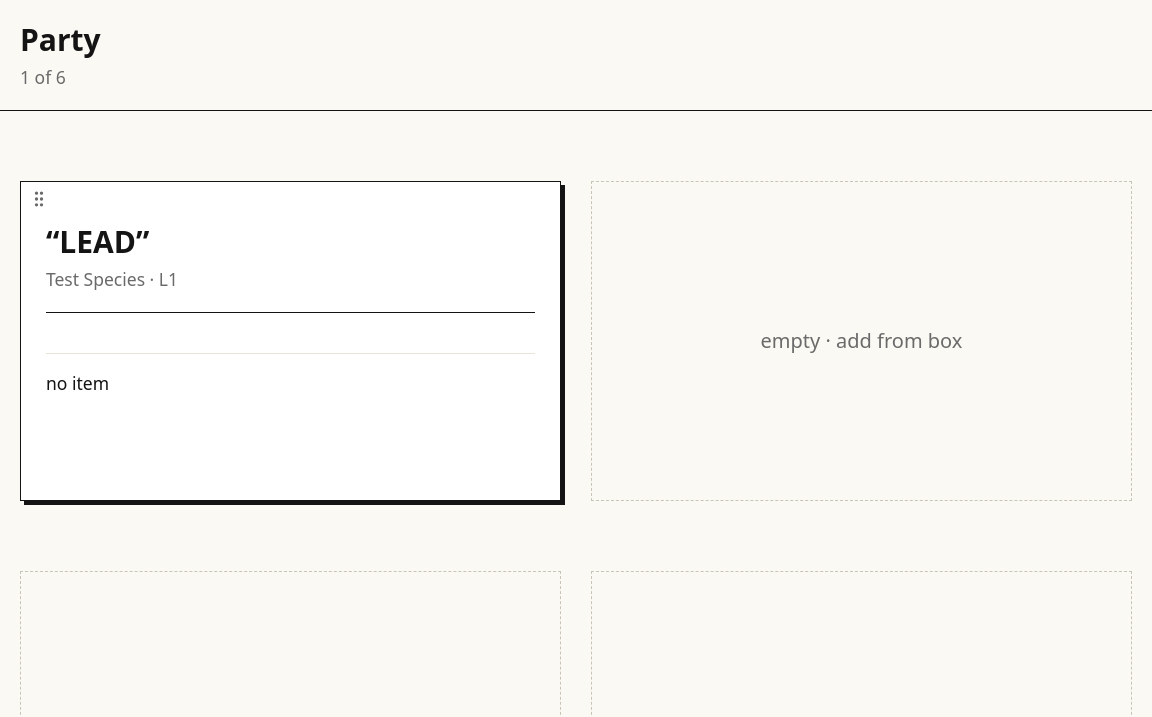
PartyScreen › adding from the box › narrows the list as you search and says when nothing matches
Click the 1st button "empty · add from box" at [862, 341], box [591,181,1132,501]
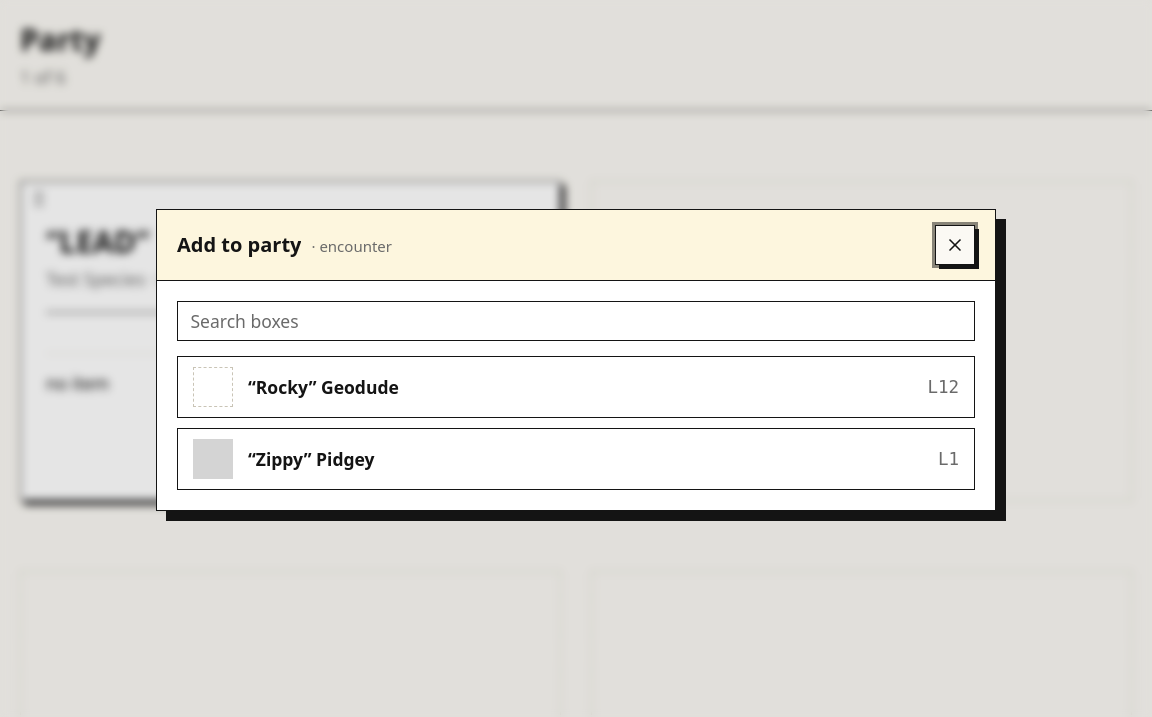
Type "zip" into the field labelled "Search boxes" at [576, 321], box [177,301,975,341]
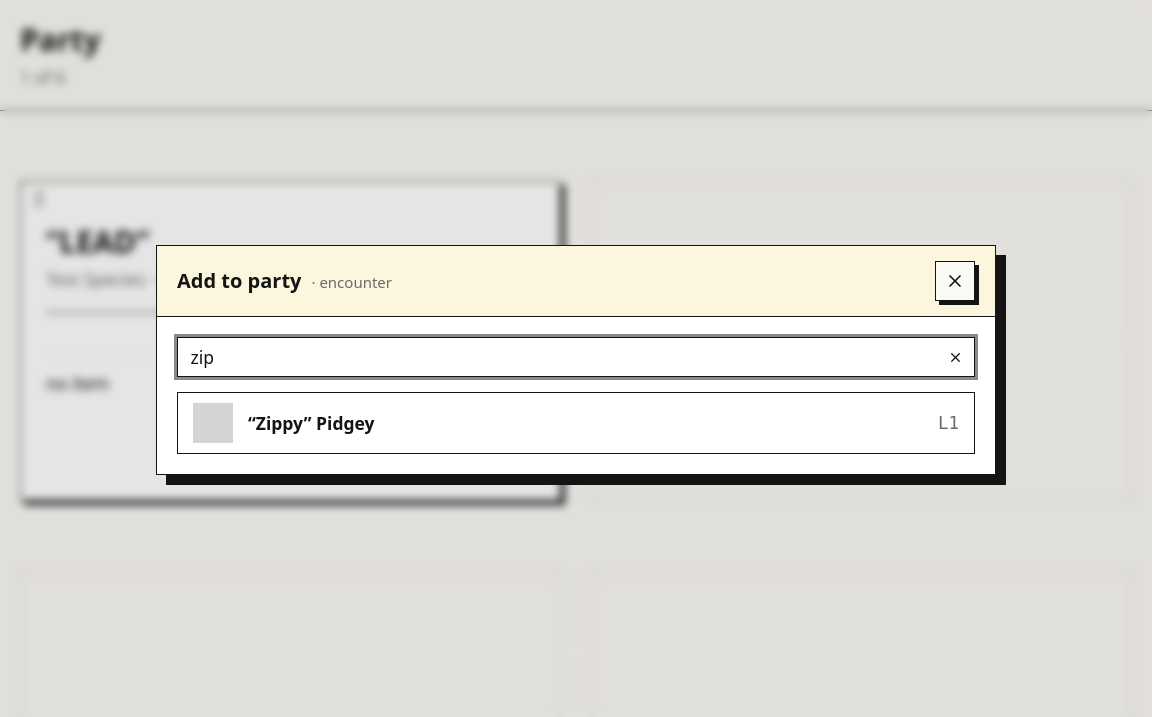
Result: the number of buttons named "to the party" is 1 at [177,392,975,454]
Clear the field named "Search boxes" at [576, 357], box [177,337,975,377]
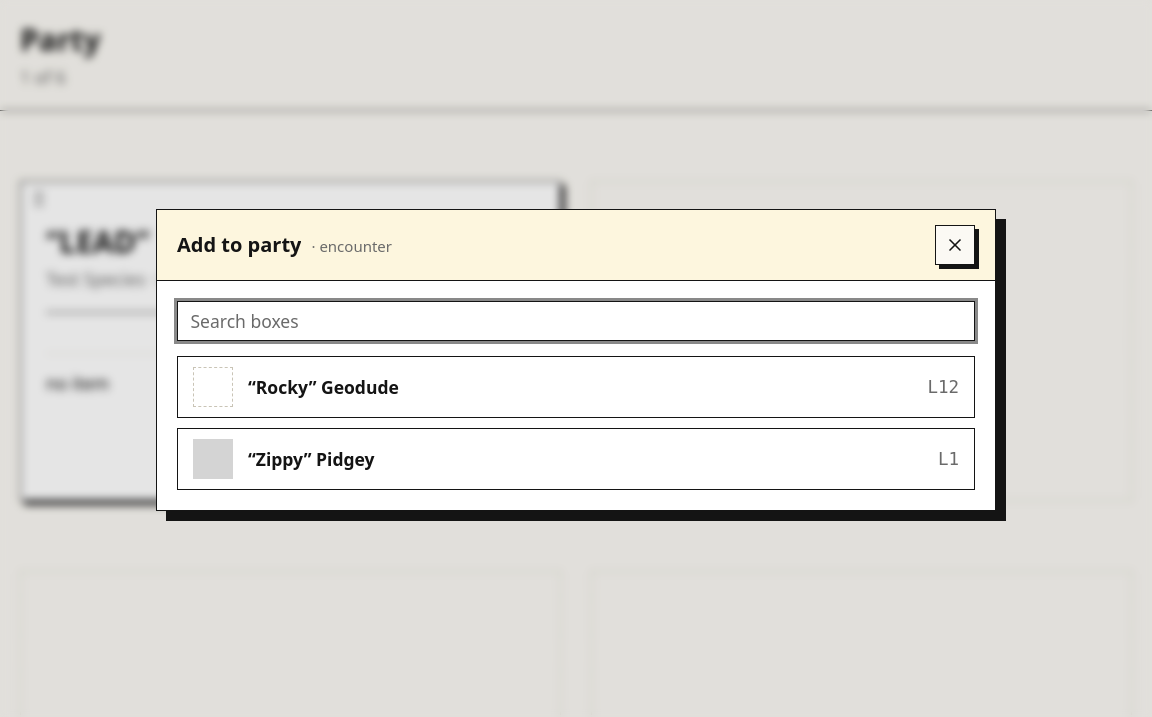
Type "qqq" into the field labelled "Search boxes" at [576, 321], box [177,301,975,341]
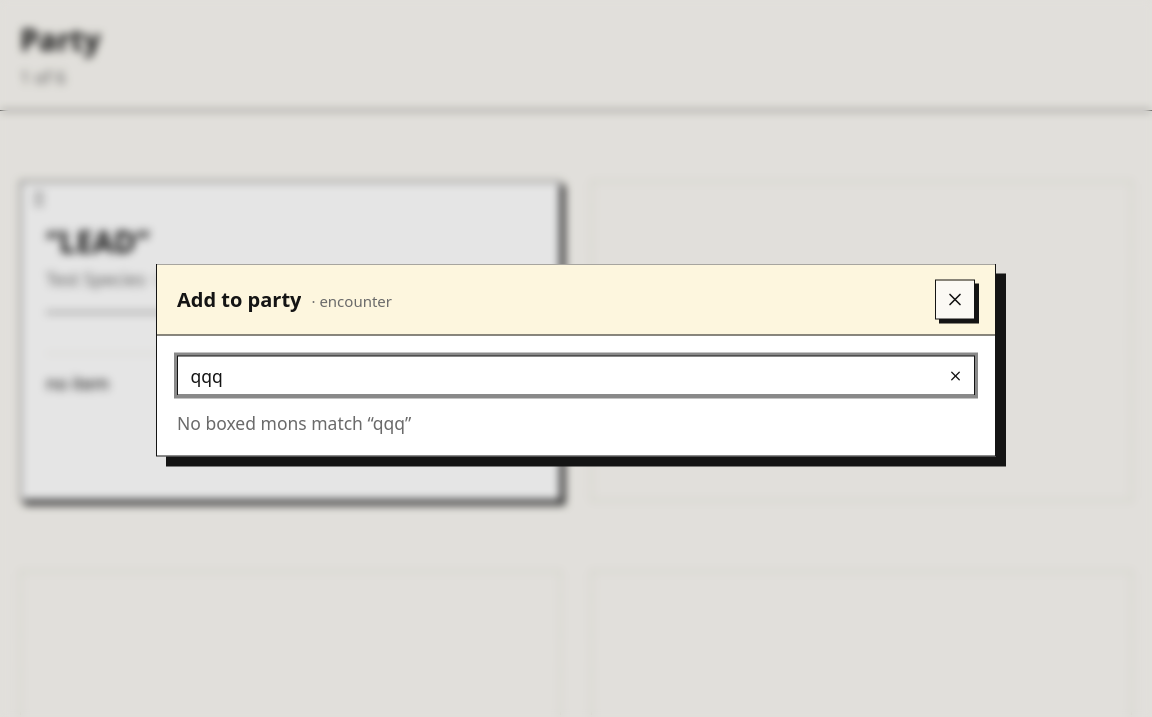
Result: the text "No boxed mons match “qqq”" is shown at [177,410,411,434]
